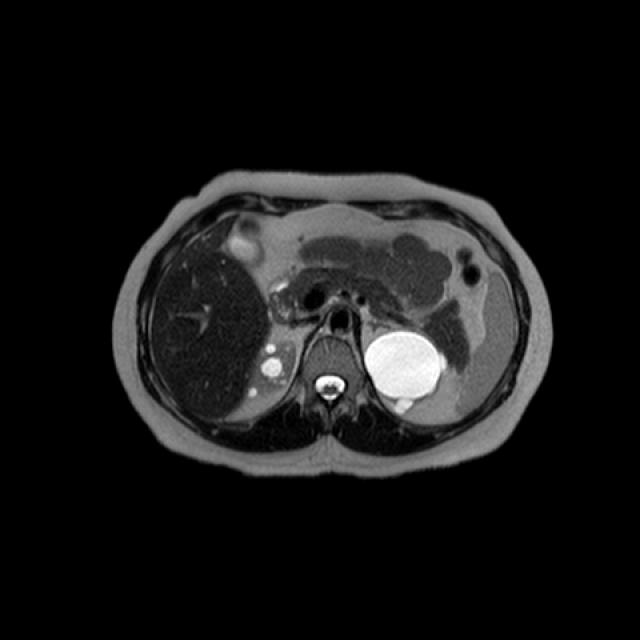sag: (242, 339, 296, 403)
sol: (365, 328, 448, 415)
